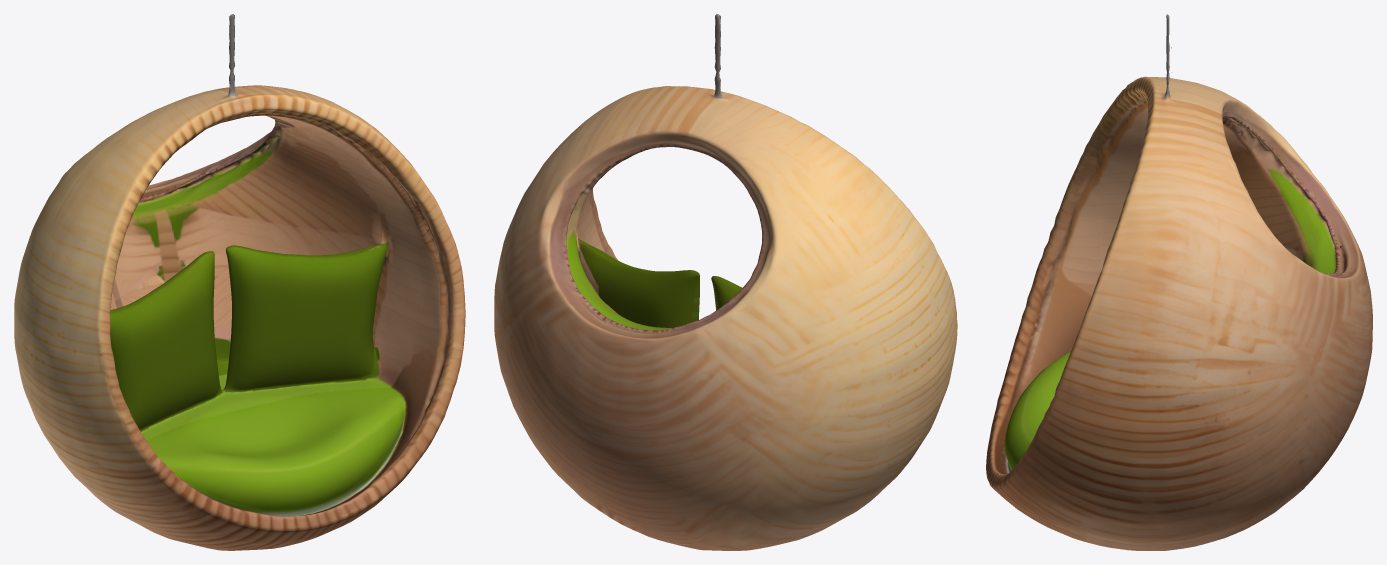
3 views of the same model, side by side, from view 1: azimuth 30°, elevation 25°; view 2: azimuth 150°, elevation 25°; view 3: azimuth 270°, elevation 25° (orthographic). The views are drawn at different scales.
Visible parts, largest first — view 1: model; view 2: model; view 3: model.
Part boxes in pixels (x1=…): model: x1=14, y1=14, x2=465, y2=550; model: x1=494, y1=14, x2=957, y2=550; model: x1=986, y1=14, x2=1372, y2=550.
Size of the model in its own units: 155 by 190 by 129.
1 material, 1 textured.
